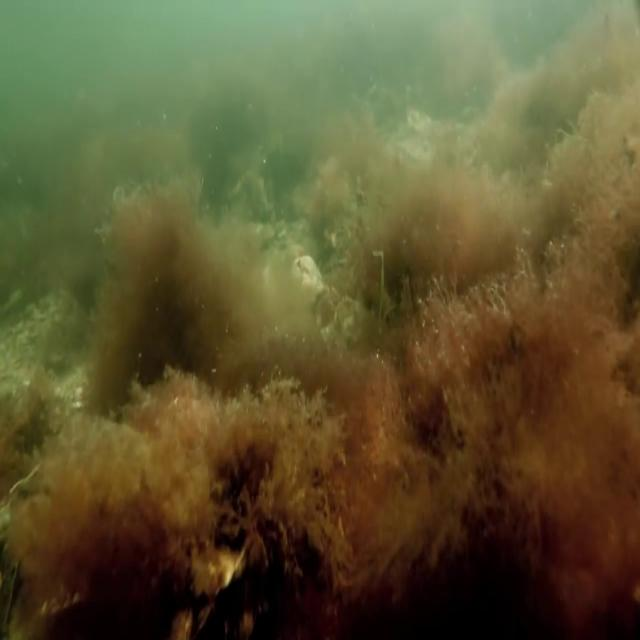Oyster-Indeterminate: (186, 530, 254, 637)
